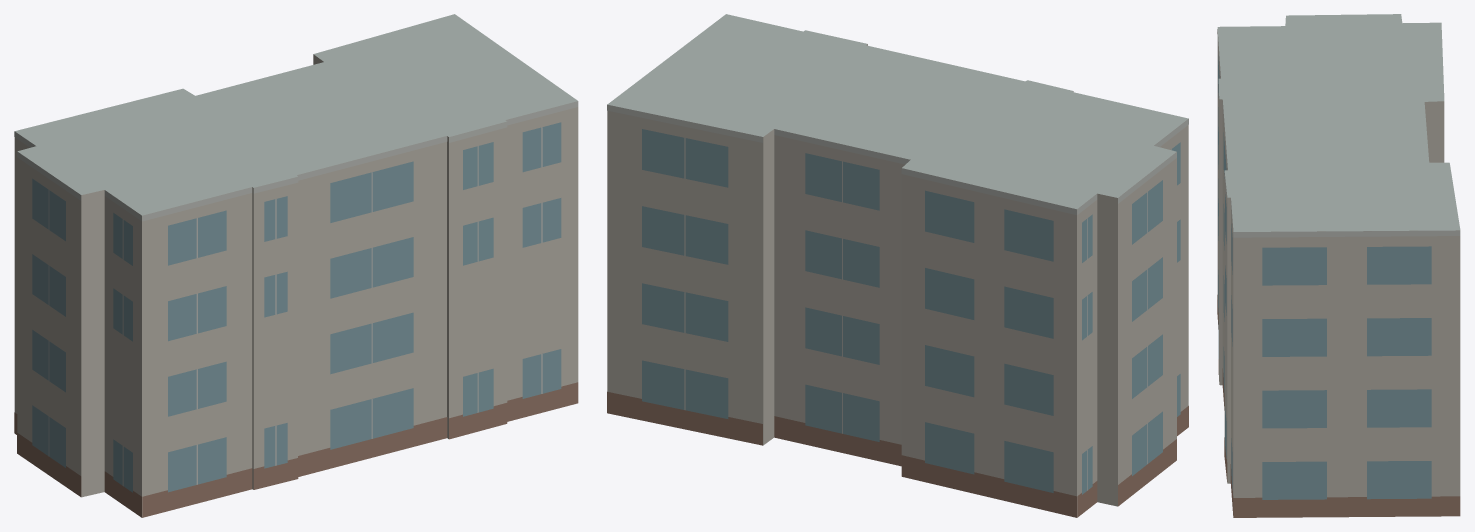
Rendered from survey-upis-32833898.glb.
The picture shows the model from 3 angles, left to right: view 1: azimuth 30°, elevation 25°; view 2: azimuth 150°, elevation 25°; view 3: azimuth 270°, elevation 25°; orthographic projection. The views are drawn at different scales.
Visible parts, largest first — view 1: survey-upis-32833898.tmp; view 2: survey-upis-32833898.tmp; view 3: survey-upis-32833898.tmp.
Boxes of the visible parts, left/top/right/bottom form: survey-upis-32833898.tmp: left=14, top=14, right=578, bottom=517; survey-upis-32833898.tmp: left=607, top=14, right=1188, bottom=517; survey-upis-32833898.tmp: left=1217, top=14, right=1460, bottom=517.
Bounding box in the file's own units: 20.53 × 12.54 × 9.67.
